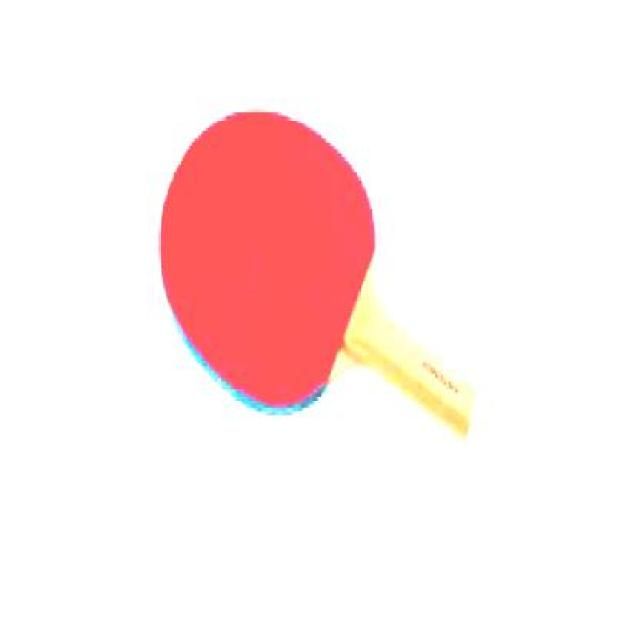table_tennis_racket: (154, 100, 392, 417)
